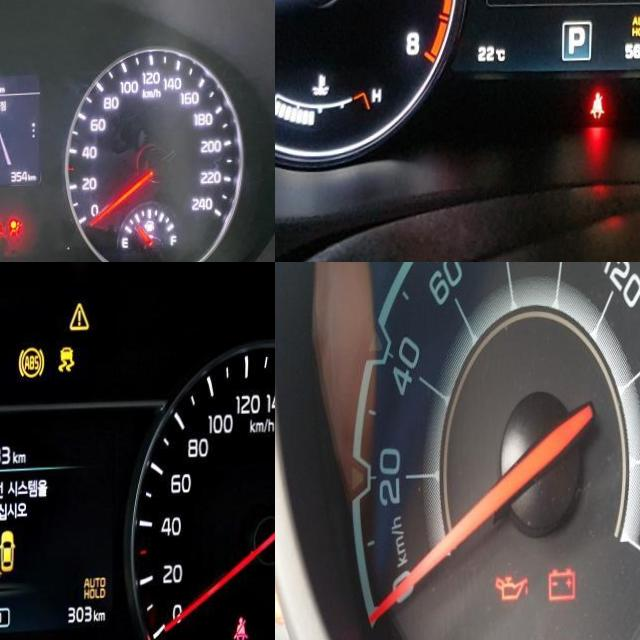Central Warning lamp: (68, 304, 89, 334)
